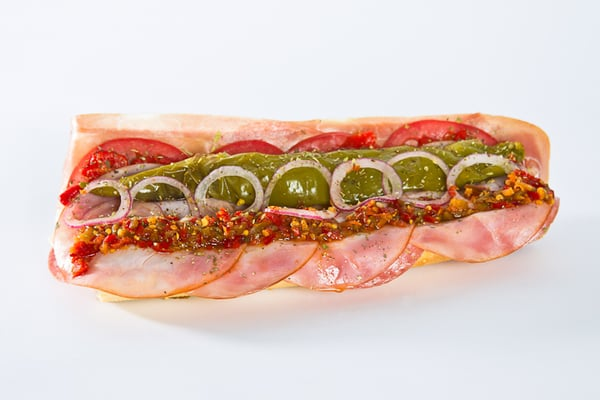sandwich: (45, 113, 564, 302)
